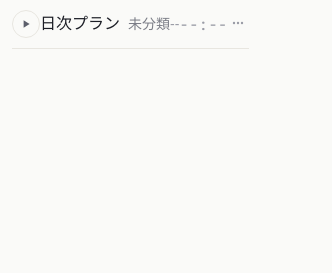
Scenario: TaskRow（画面定義書01 §3.3: 1タスク=1行のセルとその入口） › 行メニュー（O-7 / O-8 / O-12） › 未実行タスクでは日付移動ができ、中断はできない（F-107 / F-204）
Click the button named "行メニュー" at (238, 22), box [227,12,249,34]
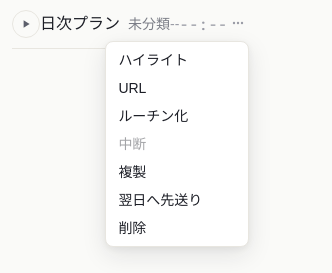
Now the button "翌日へ先送り" is enabled, box [106,186,248,214]
Now the button "中断" is disabled, box [106,130,248,158]
